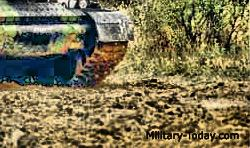tanks: (1, 1, 134, 87)
